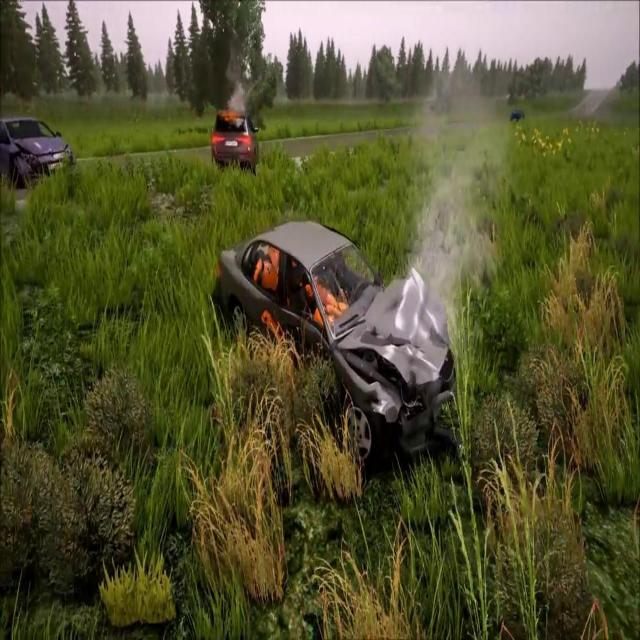accident: (208, 212, 467, 473)
